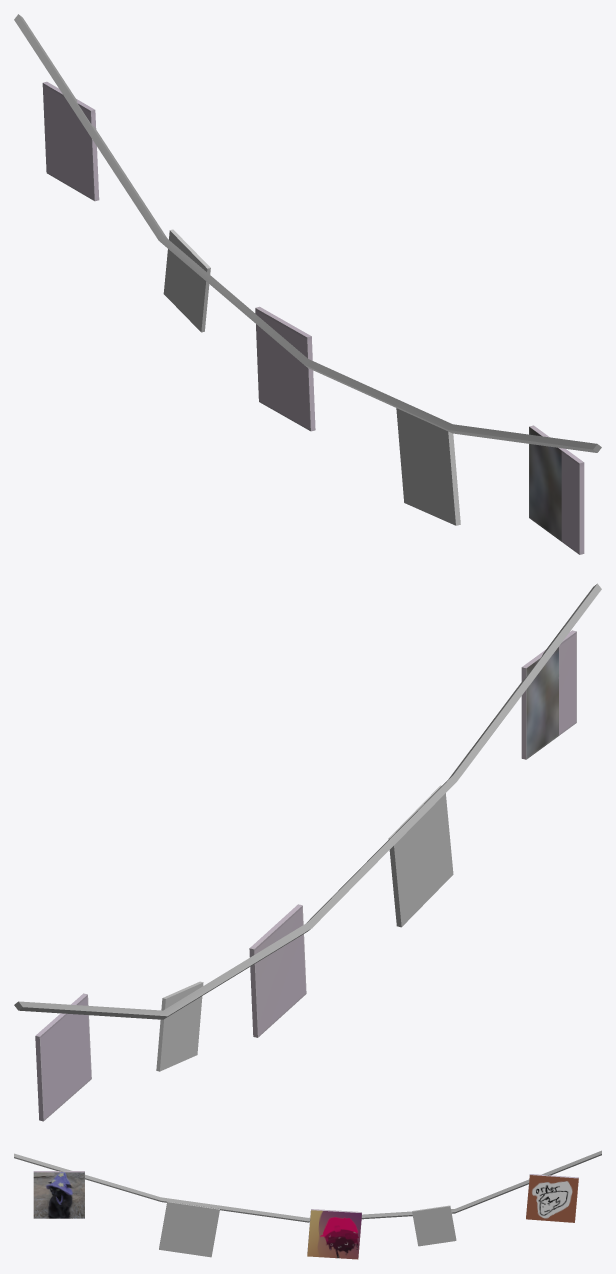
Rendered from HangingPhotos.fbx.
3 views of the same model, one above another, from view 1: azimuth 30°, elevation 25°; view 2: azimuth 150°, elevation 25°; view 3: azimuth 270°, elevation 25° (orthographic). The views are drawn at different scales.
Parts seen in each view (by area): view 1: wire, Hphoto2, Hphoto1, Hphoto3, Hphoto5, Hphoto4; view 2: wire, Hphoto2, Hphoto1, Hphoto3, Hphoto5, Hphoto4; view 3: Hphoto2, Hphoto3, Hphoto1, wire, Hphoto5, Hphoto4.
Part boxes in pixels (x1=…): wire: x1=14, y1=14, x2=601, y2=452; Hphoto2: x1=396, y1=408, x2=460, y2=525; Hphoto1: x1=529, y1=425, x2=584, y2=554; Hphoto3: x1=255, y1=306, x2=315, y2=431; Hphoto5: x1=42, y1=81, x2=99, y2=201; Hphoto4: x1=163, y1=229, x2=210, y2=332; wire: x1=14, y1=583, x2=601, y2=1019; Hphoto2: x1=388, y1=785, x2=453, y2=927; Hphoto1: x1=521, y1=630, x2=576, y2=759; Hphoto3: x1=249, y1=904, x2=306, y2=1037; Hphoto5: x1=35, y1=993, x2=91, y2=1121; Hphoto4: x1=156, y1=981, x2=203, y2=1071; Hphoto2: x1=159, y1=1201, x2=219, y2=1257; Hphoto3: x1=307, y1=1209, x2=361, y2=1259; Hphoto1: x1=33, y1=1171, x2=84, y2=1218; wire: x1=14, y1=1150, x2=601, y2=1222; Hphoto5: x1=526, y1=1174, x2=578, y2=1222; Hphoto4: x1=412, y1=1205, x2=456, y2=1246.
Size of the model in its own units: 0.2459 by 4.42 by 21.83.
